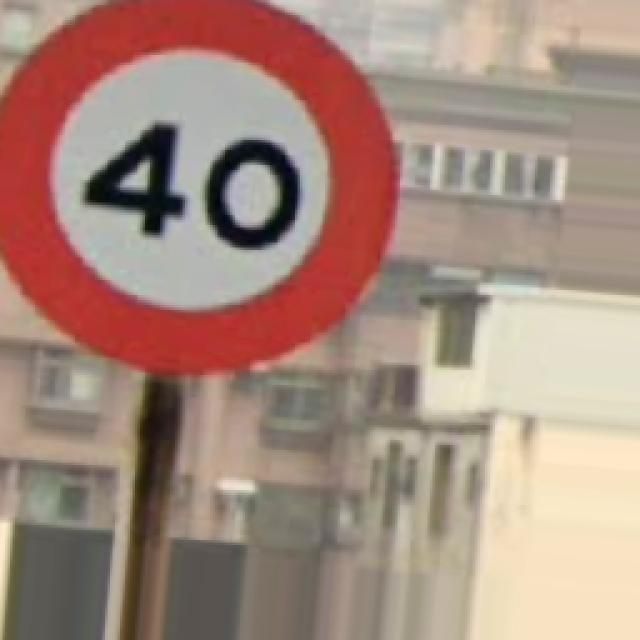Speed Limit -40-: (0, 0, 398, 372)
